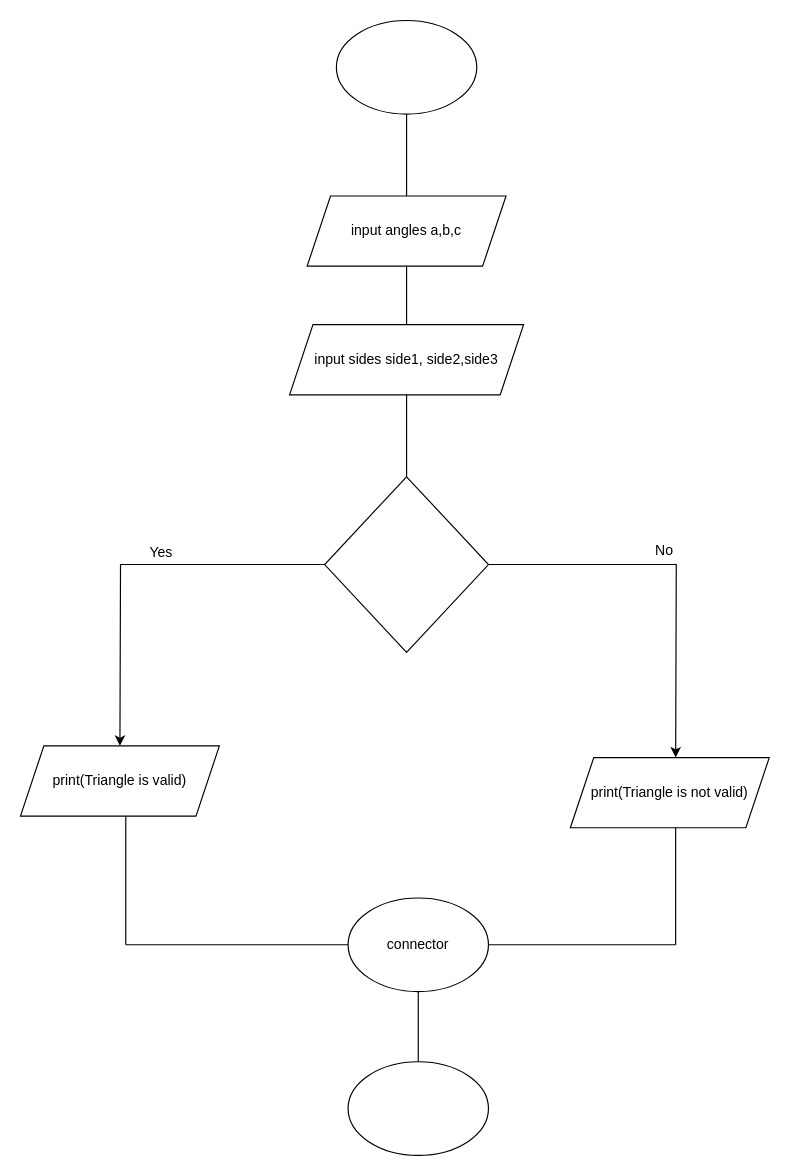
This 790x1176 diagram has some shape labels left out. Each missing label, with the centre of its shape:
"if sum of angles == 180" belongs at (x=406, y=564).
"start" belongs at (x=406, y=66).
"stop" belongs at (x=417, y=1108).
